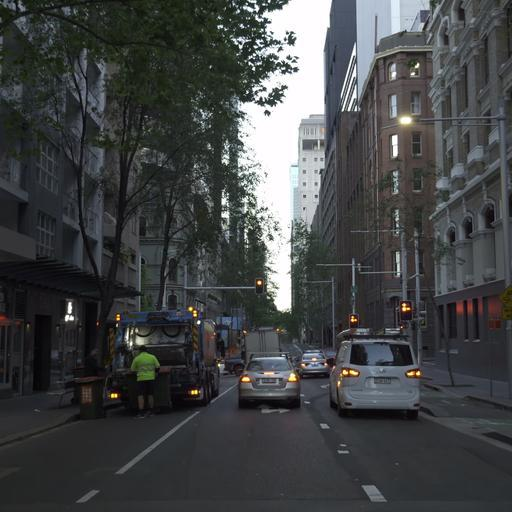Street light: (398, 111, 511, 401), (349, 224, 421, 365), (349, 226, 406, 301), (302, 275, 335, 349), (315, 260, 360, 314), (397, 112, 506, 127), (254, 277, 263, 294)
